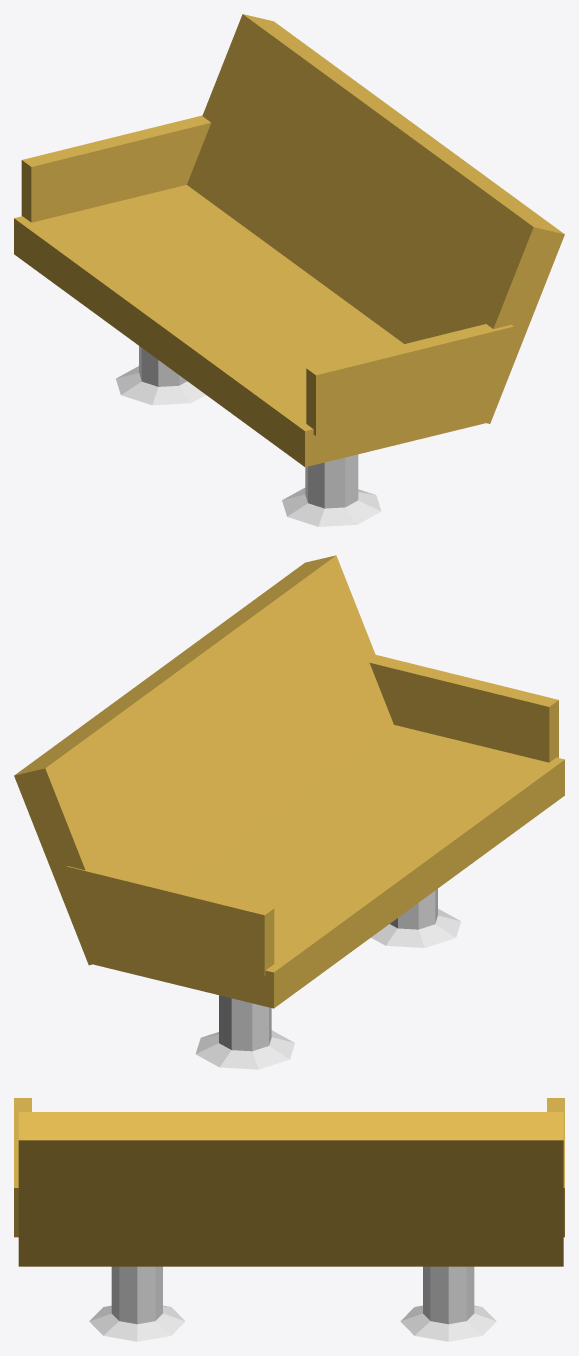
Rendered from bankje.glb.
3 renders of one model, top to bottom at view 1: azimuth 30°, elevation 25°; view 2: azimuth 150°, elevation 25°; view 3: azimuth 270°, elevation 25°, orthographic. The views are drawn at different scales.
Visible parts, largest first — view 1: Bankje; view 2: Bankje; view 3: Bankje.
Part boxes in pixels (x1,y1,x2,y2): Bankje: (14, 14, 564, 526); Bankje: (14, 555, 564, 1069); Bankje: (14, 1098, 564, 1341).
Size of the model in its own units: 2.89 by 3.09 by 5.66.
